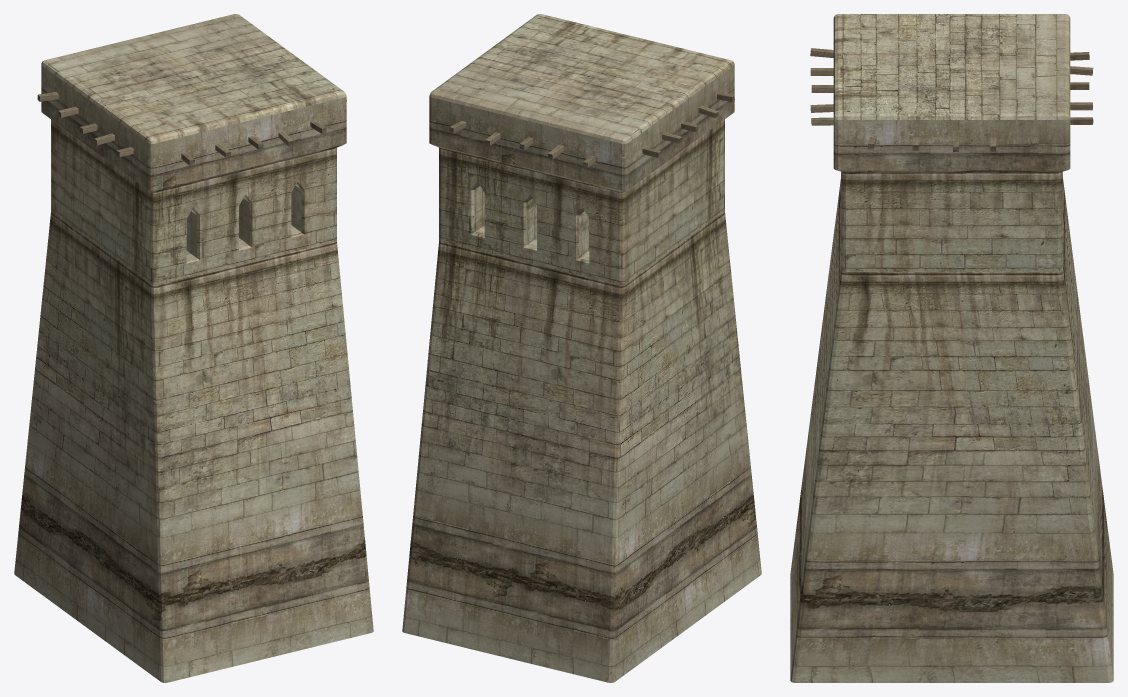
The model's file is TW2_5_TOWNWALL_01_07-transformed.glb.
3 renders of one model, left to right at view 1: azimuth 30°, elevation 25°; view 2: azimuth 150°, elevation 25°; view 3: azimuth 270°, elevation 25°, orthographic. The views are drawn at different scales.
Parts seen in each view (by area): view 1: default; view 2: default; view 3: default.
Part boxes in pixels (x1,y1,x2,y2): default: (14,14,373,682); default: (402,14,761,682); default: (790,14,1113,682).
Bounding box in the file's own units: 11.24 × 24.46 × 12.71.
2 materials, 2 textured.
